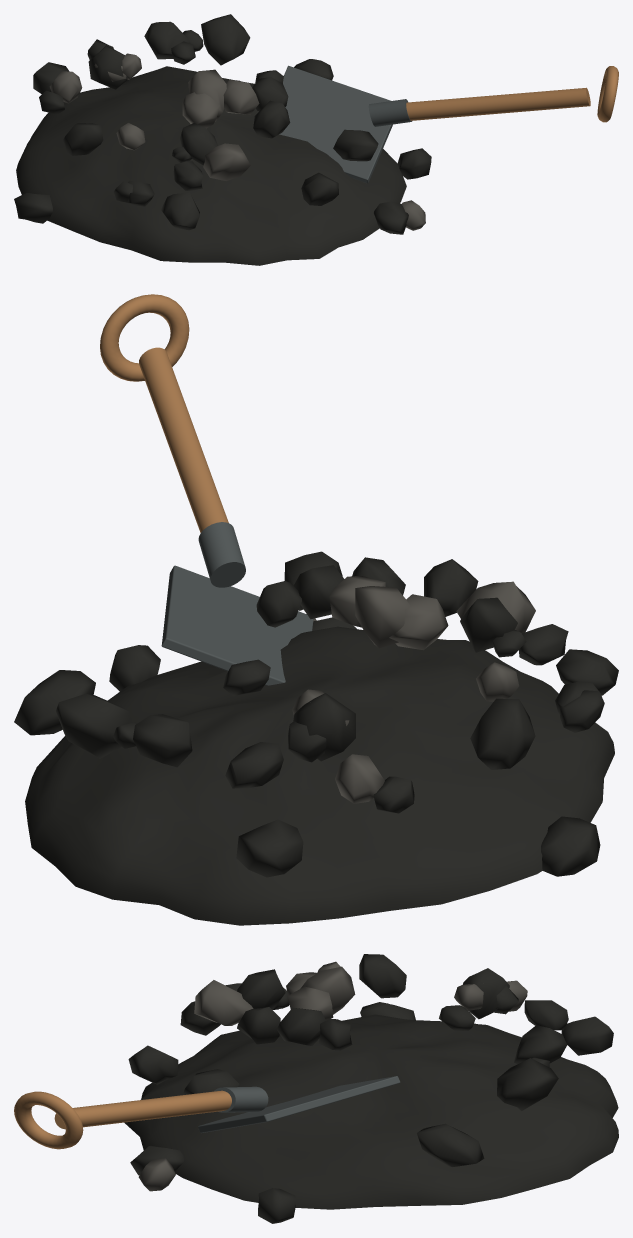
Rendered from detail_coal_pile.glb.
3 views of the same model, one above another, from view 1: azimuth 30°, elevation 25°; view 2: azimuth 150°, elevation 25°; view 3: azimuth 270°, elevation 25° (orthographic). The views are drawn at different scales.
Parts seen in each view (by area): view 1: stone, metal; view 2: stone, metal; view 3: stone, metal.
Part boxes in pixels (x1,y1,x2,y2): stone: [14, 14, 618, 265]; metal: [279, 65, 412, 183]; stone: [14, 294, 618, 925]; metal: [161, 522, 313, 685]; stone: [14, 954, 618, 1223]; metal: [198, 1076, 400, 1133].
Bounding box in the file's own units: 1.2 × 0.4 × 1.2.
